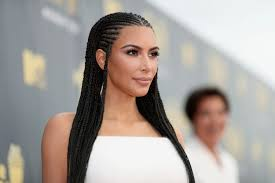person: (86, 11, 161, 100)
